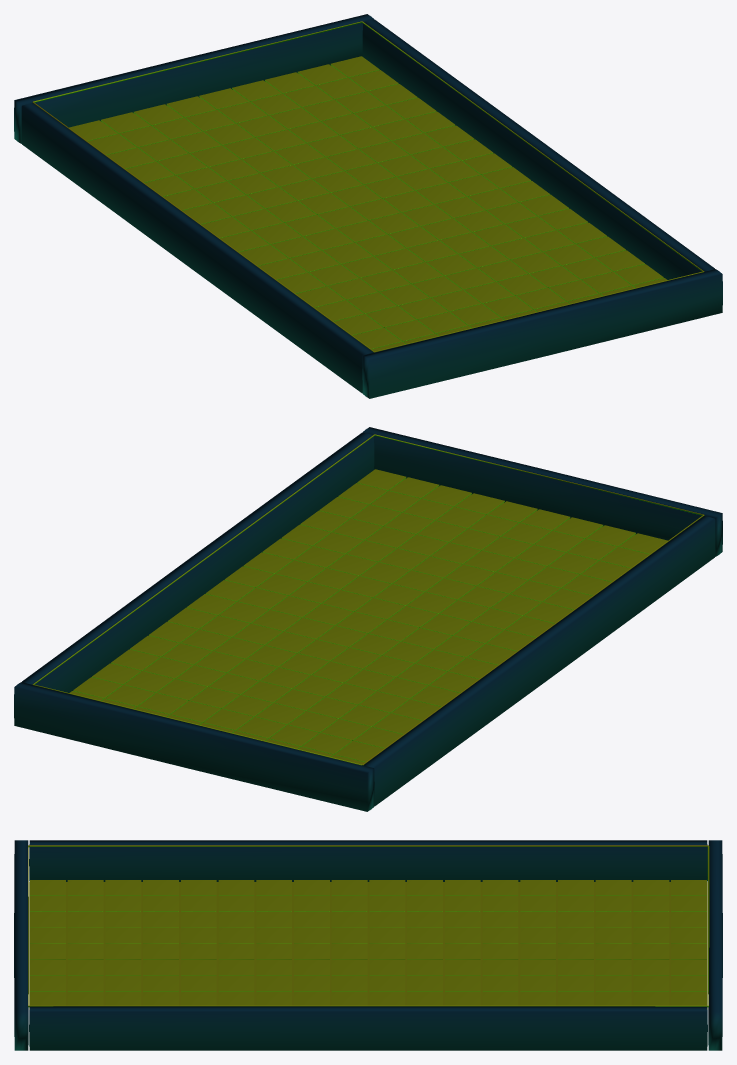
File: sanctum_basin_nave.glb
3 views of the same model, one above another, from view 1: azimuth 30°, elevation 25°; view 2: azimuth 150°, elevation 25°; view 3: azimuth 270°, elevation 25° (orthographic).
Parts seen in each view (by area): view 1: sanctum_basin_nave; view 2: sanctum_basin_nave; view 3: sanctum_basin_nave.
Part boxes in pixels (left/top/right/bottom): sanctum_basin_nave: left=14, top=14, right=722, bottom=398; sanctum_basin_nave: left=14, top=427, right=722, bottom=811; sanctum_basin_nave: left=14, top=840, right=722, bottom=1050.
Size of what is drawn, in the model's own units: 10.8 by 1.16 by 18.8.
